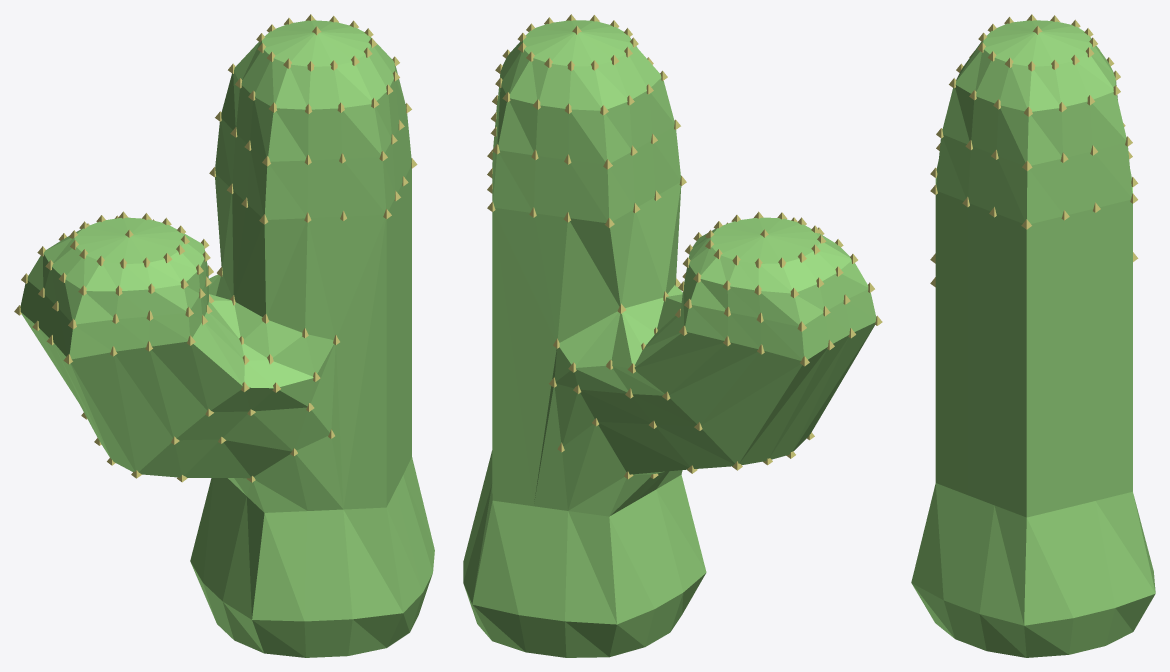
Rendered from Cactus.FBX.
The picture shows the model from 3 angles, left to right: view 1: azimuth 30°, elevation 25°; view 2: azimuth 150°, elevation 25°; view 3: azimuth 270°, elevation 25°; orthographic projection.
Parts seen in each view (by area): view 1: Cactus; view 2: Cactus; view 3: Cactus.
Boxes of the visible parts, bbox=[...] form: Cactus: bbox=[14, 14, 434, 657]; Cactus: bbox=[463, 14, 882, 657]; Cactus: bbox=[911, 14, 1155, 657].
Bounding box in the file's own units: 33.18 × 18.12 × 49.45.
1 material, 1 textured.
